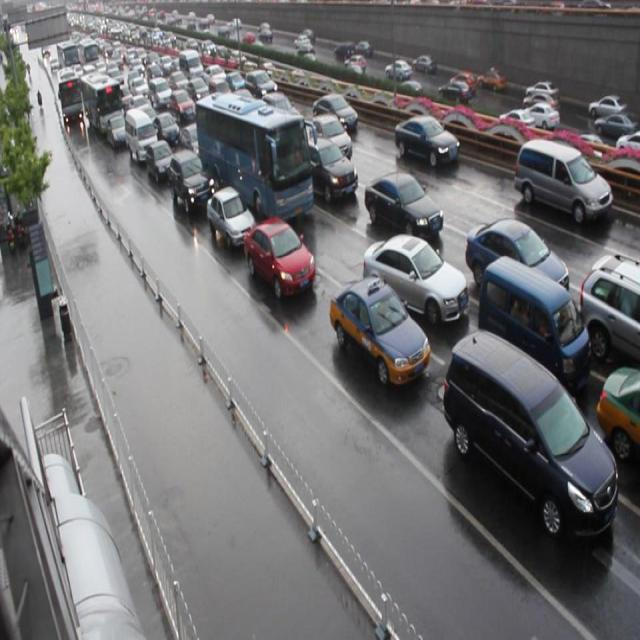car: (329, 276, 429, 386), (363, 234, 467, 327), (464, 218, 568, 302), (578, 253, 640, 363), (242, 215, 314, 298), (364, 171, 441, 237), (594, 370, 640, 461), (304, 136, 356, 203), (394, 114, 458, 168), (205, 183, 255, 246), (170, 148, 213, 216), (307, 119, 352, 170), (313, 94, 357, 134), (148, 140, 175, 181), (178, 121, 206, 160), (154, 110, 180, 145)
truck: (442, 328, 617, 542), (477, 259, 589, 386), (513, 137, 612, 222)
van: (194, 93, 313, 221)
